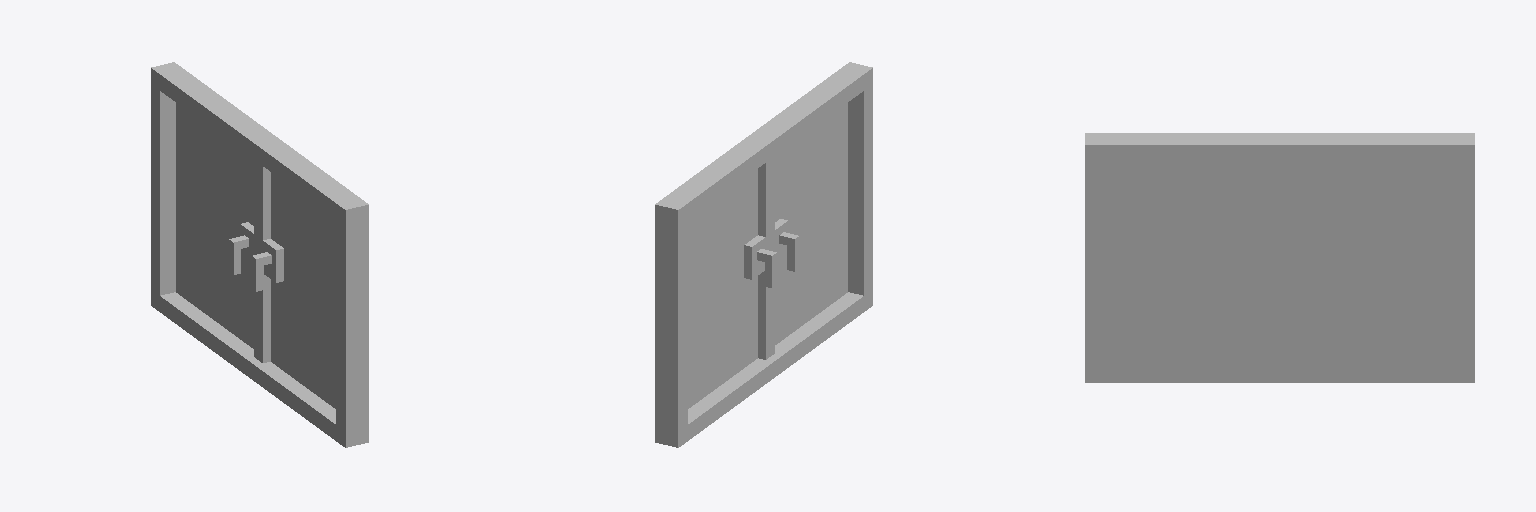
File: window1.obj
3 views of the same model, side by side, from view 1: azimuth 30°, elevation 25°; view 2: azimuth 150°, elevation 25°; view 3: azimuth 270°, elevation 25° (orthographic).
Visible parts, largest first — view 1: object 1; view 2: object 1; view 3: object 1.
Part boxes in pixels (left/top/right/bottom): object 1: left=151, top=62, right=368, bottom=447; object 1: left=655, top=62, right=872, bottom=447; object 1: left=1085, top=133, right=1474, bottom=382.
Size of the model in its own units: 0.4 by 2.9 by 4.3.